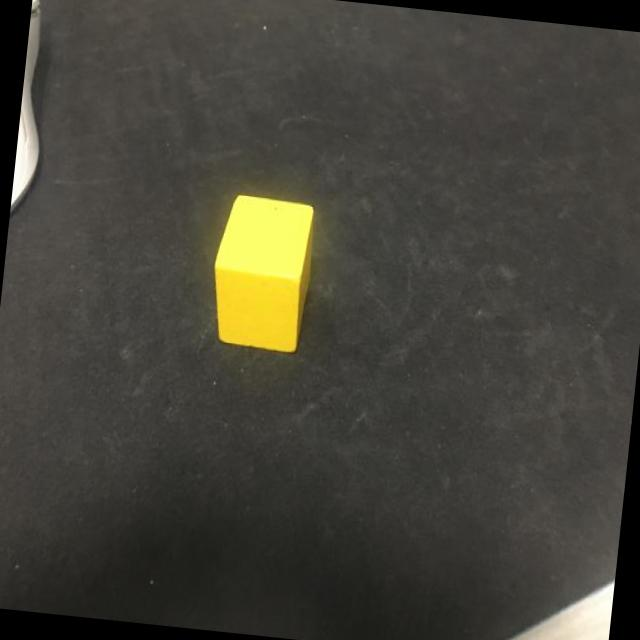yellow: (206, 192, 316, 354)
